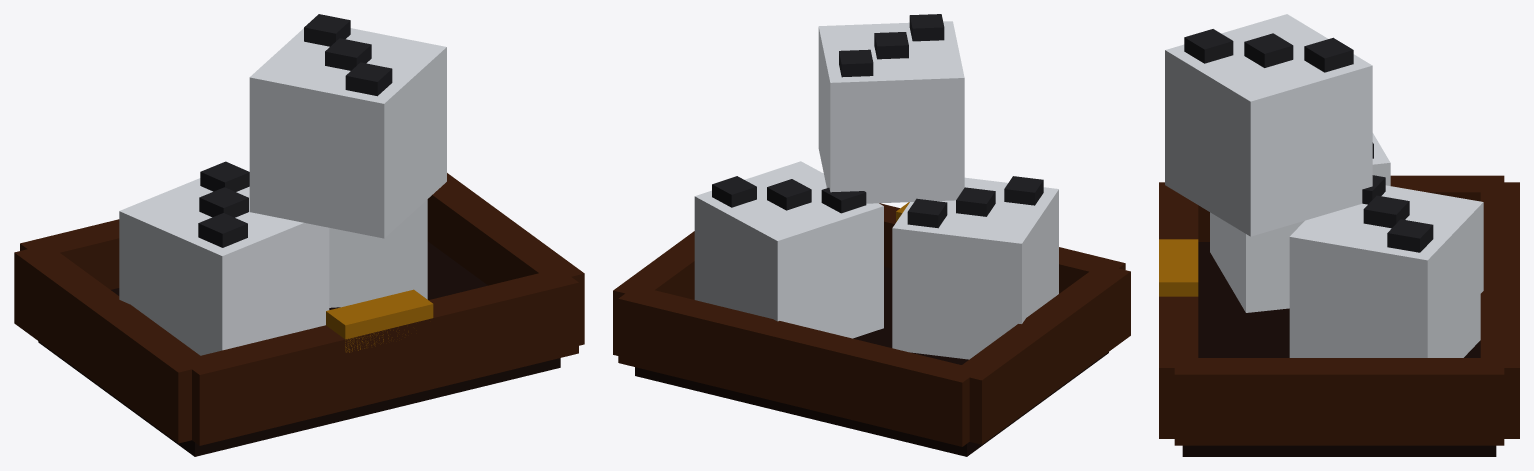
File: DadosReserva_low.fbx
3 views of the same model, side by side, from view 1: azimuth 30°, elevation 25°; view 2: azimuth 150°, elevation 25°; view 3: azimuth 270°, elevation 25° (orthographic). The views are drawn at different scales.
Visible parts, largest first — view 1: DadosReserva_low; view 2: DadosReserva_low; view 3: DadosReserva_low.
Boxes of the visible parts, bbox=[...] form: DadosReserva_low: bbox=[14, 14, 584, 456]; DadosReserva_low: bbox=[613, 14, 1130, 456]; DadosReserva_low: bbox=[1159, 14, 1519, 456].
Size of the model in its own units: 60 by 46.5 by 46.
